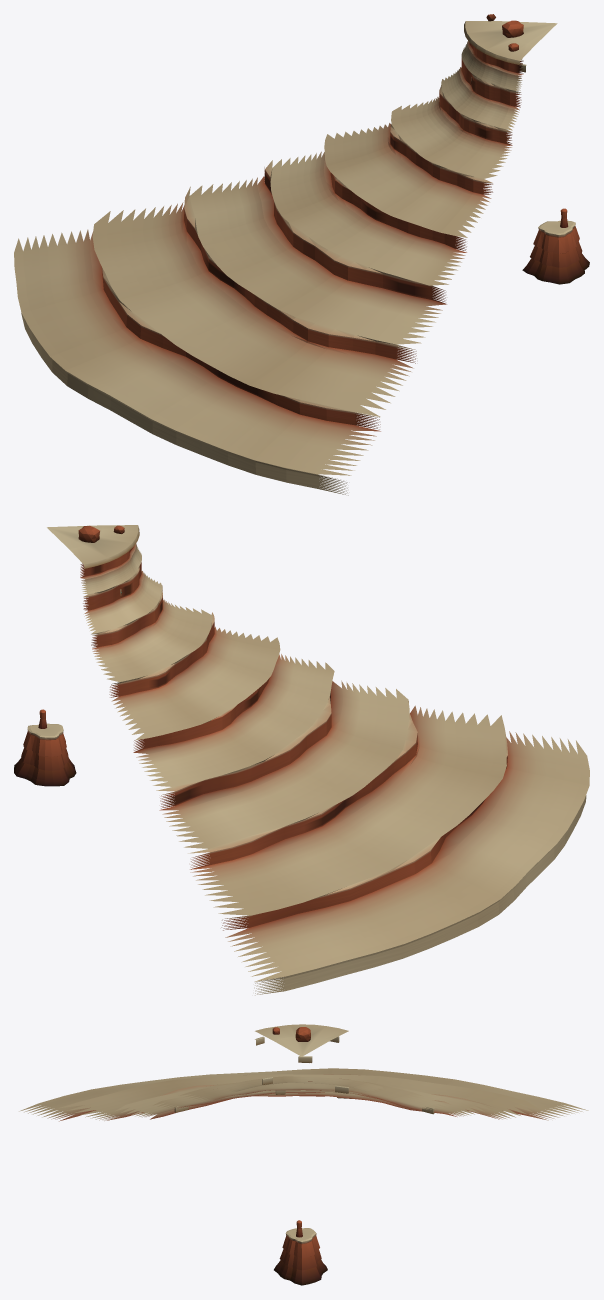
The model's file is canyon-s4-L9zARrJQ.glb.
3 renders of one model, top to bottom at view 1: azimuth 30°, elevation 25°; view 2: azimuth 150°, elevation 25°; view 3: azimuth 270°, elevation 25°, orthographic. The views are drawn at different scales.
Parts seen in each view (by area): view 1: sc_landmark_2, sc_mesa_0; view 2: sc_landmark_2, sc_mesa_0; view 3: sc_landmark_2, sc_mesa_0.
Part boxes in pixels (bbox=[...]): sc_landmark_2: bbox=[14, 14, 557, 495]; sc_mesa_0: bbox=[522, 208, 589, 284]; sc_landmark_2: bbox=[47, 525, 589, 995]; sc_mesa_0: bbox=[14, 709, 76, 786]; sc_landmark_2: bbox=[19, 1024, 588, 1121]; sc_mesa_0: bbox=[274, 1220, 327, 1285].
Bounding box in the file's own units: 461 × 236 × 521.
